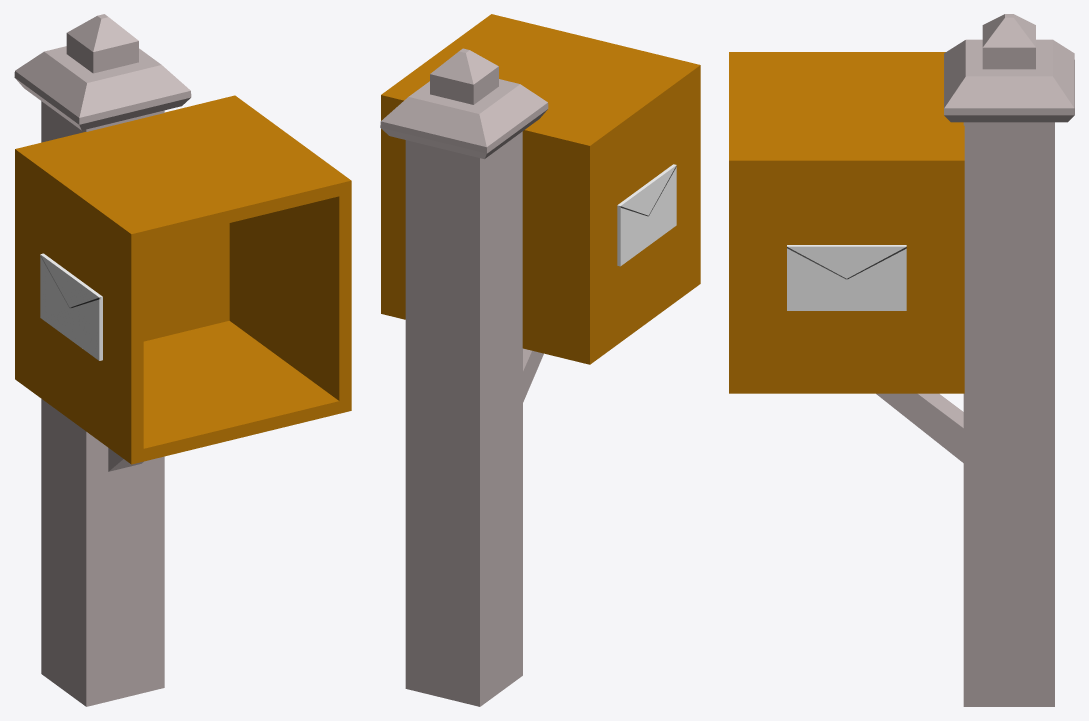
File: MailBox.fbx
The picture shows the model from 3 angles, left to right: view 1: azimuth 30°, elevation 25°; view 2: azimuth 150°, elevation 25°; view 3: azimuth 270°, elevation 25°; orthographic projection. The views are drawn at different scales.
Parts seen in each view (by area): view 1: Cube; view 2: Cube; view 3: Cube.
Part boxes in pixels (x1=…): Cube: x1=14, y1=14, x2=351, y2=706; Cube: x1=380, y1=14, x2=700, y2=706; Cube: x1=729, y1=14, x2=1074, y2=706.
Bounding box in the file's own units: 46.55 × 130 × 60.71.
